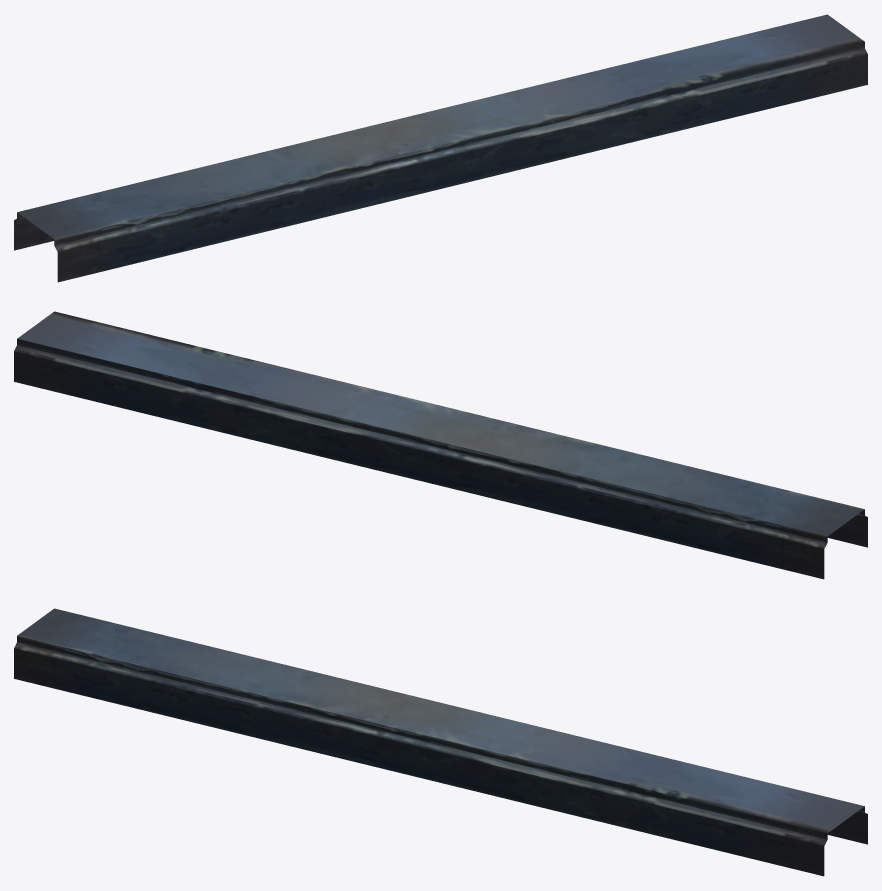
File: HuBian_NightRailing04_FBX.FBX
3 renders of one model, top to bottom at view 1: azimuth 30°, elevation 25°; view 2: azimuth 150°, elevation 25°; view 3: azimuth 330°, elevation 25°, orthographic.
Visible parts, largest first — view 1: HuBian_NightRailing04_FBX; view 2: HuBian_NightRailing04_FBX; view 3: HuBian_NightRailing04_FBX.
Part boxes in pixels (<box>): HuBian_NightRailing04_FBX: <box>14,14,867,282</box>; HuBian_NightRailing04_FBX: <box>14,311,867,579</box>; HuBian_NightRailing04_FBX: <box>14,608,867,876</box>.
Size of the model in its own units: 1.77 by 0.0851 by 0.1646.
